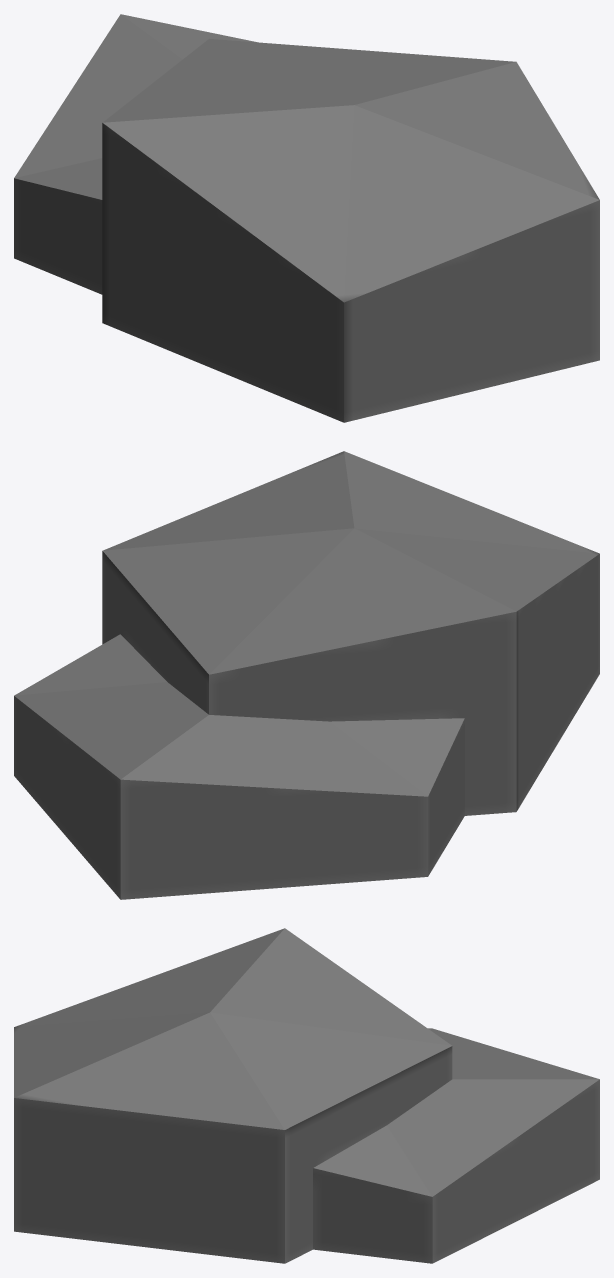
Rendered from Rock2.obj.
3 renders of one model, top to bottom at view 1: azimuth 30°, elevation 25°; view 2: azimuth 150°, elevation 25°; view 3: azimuth 270°, elevation 25°, orthographic. The views are drawn at different scales.
Parts seen in each view (by area): view 1: cylinder; view 2: cylinder; view 3: cylinder.
Part boxes in pixels (left/top/right/bottom): cylinder: left=14, top=14, right=599, bottom=422; cylinder: left=14, top=451, right=599, bottom=899; cylinder: left=14, top=928, right=599, bottom=1263.
Bounding box in the file's own units: 0.6756 × 0.3125 × 0.993.
1 material, 1 textured.
